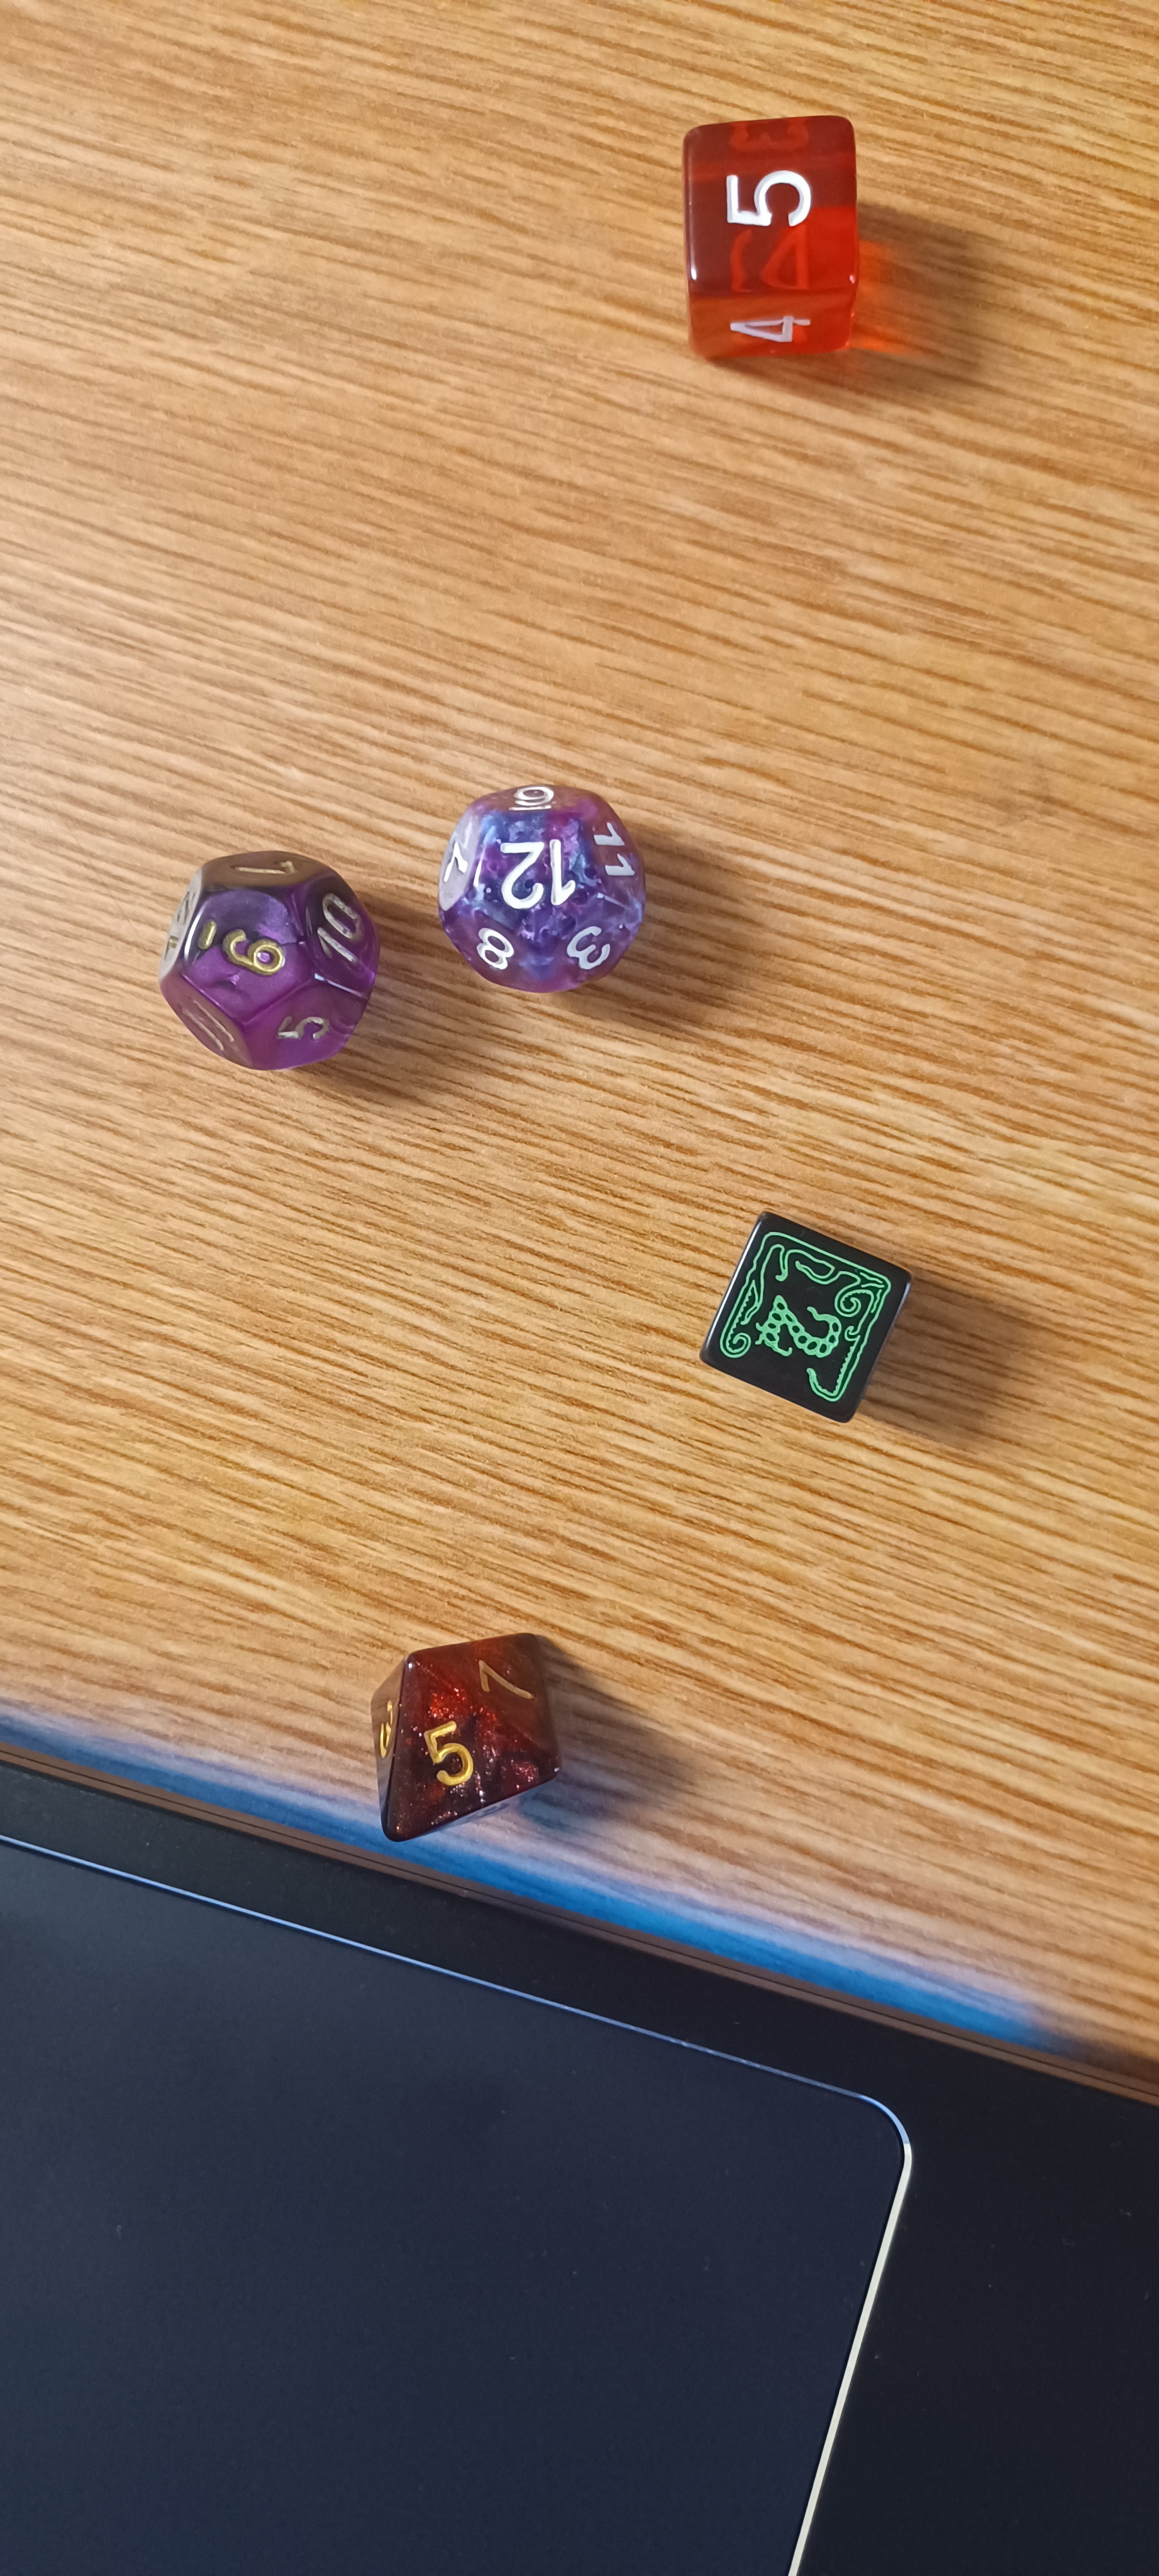five: (629, 76, 936, 409), (328, 1618, 602, 1870)
nine: (146, 816, 409, 1074)
twelve: (412, 757, 681, 1014)
two: (678, 1186, 951, 1457)
